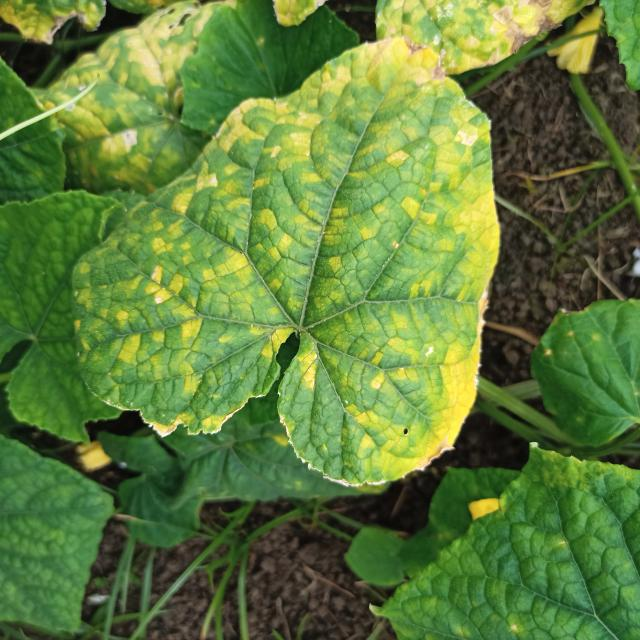disease_cucumber: (73, 44, 502, 485)
